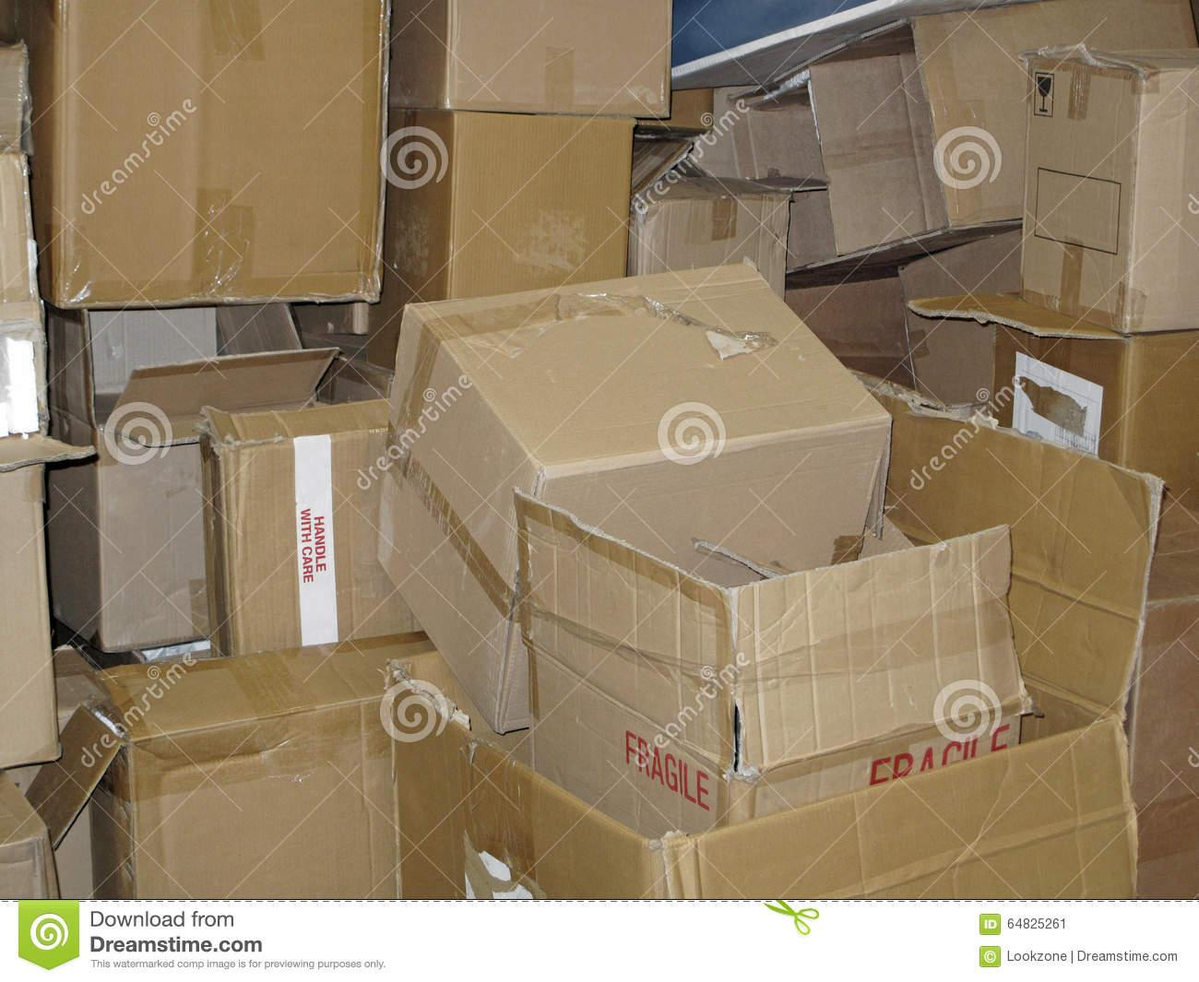Box: (363, 249, 900, 739), (509, 497, 1028, 851), (0, 0, 389, 308), (47, 304, 335, 651), (91, 634, 431, 899), (909, 295, 1199, 551), (368, 110, 635, 368), (708, 17, 950, 289), (201, 400, 419, 656), (1021, 44, 1199, 332), (389, 0, 671, 118), (628, 178, 789, 295)
